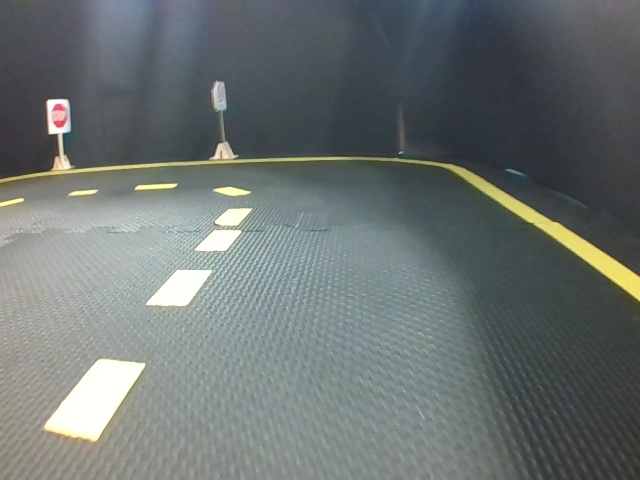30: (214, 83, 224, 108)
stop: (48, 100, 69, 131)
